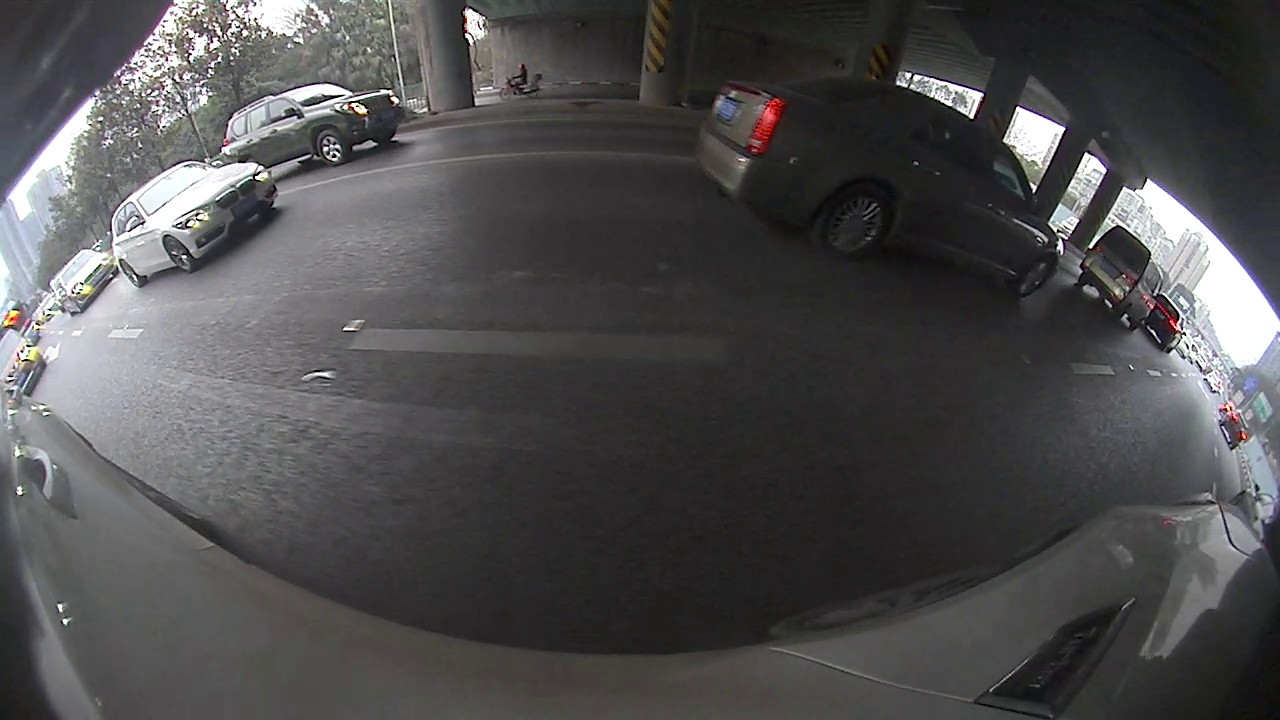car: (692, 74, 1065, 299), (106, 158, 281, 289), (219, 81, 405, 168), (1077, 224, 1165, 333), (55, 246, 122, 317), (2, 326, 46, 398), (1146, 293, 1187, 353)
front: (1010, 252, 1057, 301), (314, 128, 352, 167), (164, 235, 194, 274)
rear: (817, 184, 892, 258), (119, 258, 144, 290)
